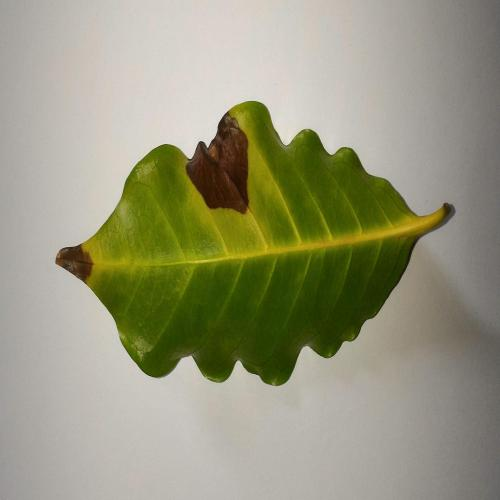miner: (186, 112, 249, 215)
